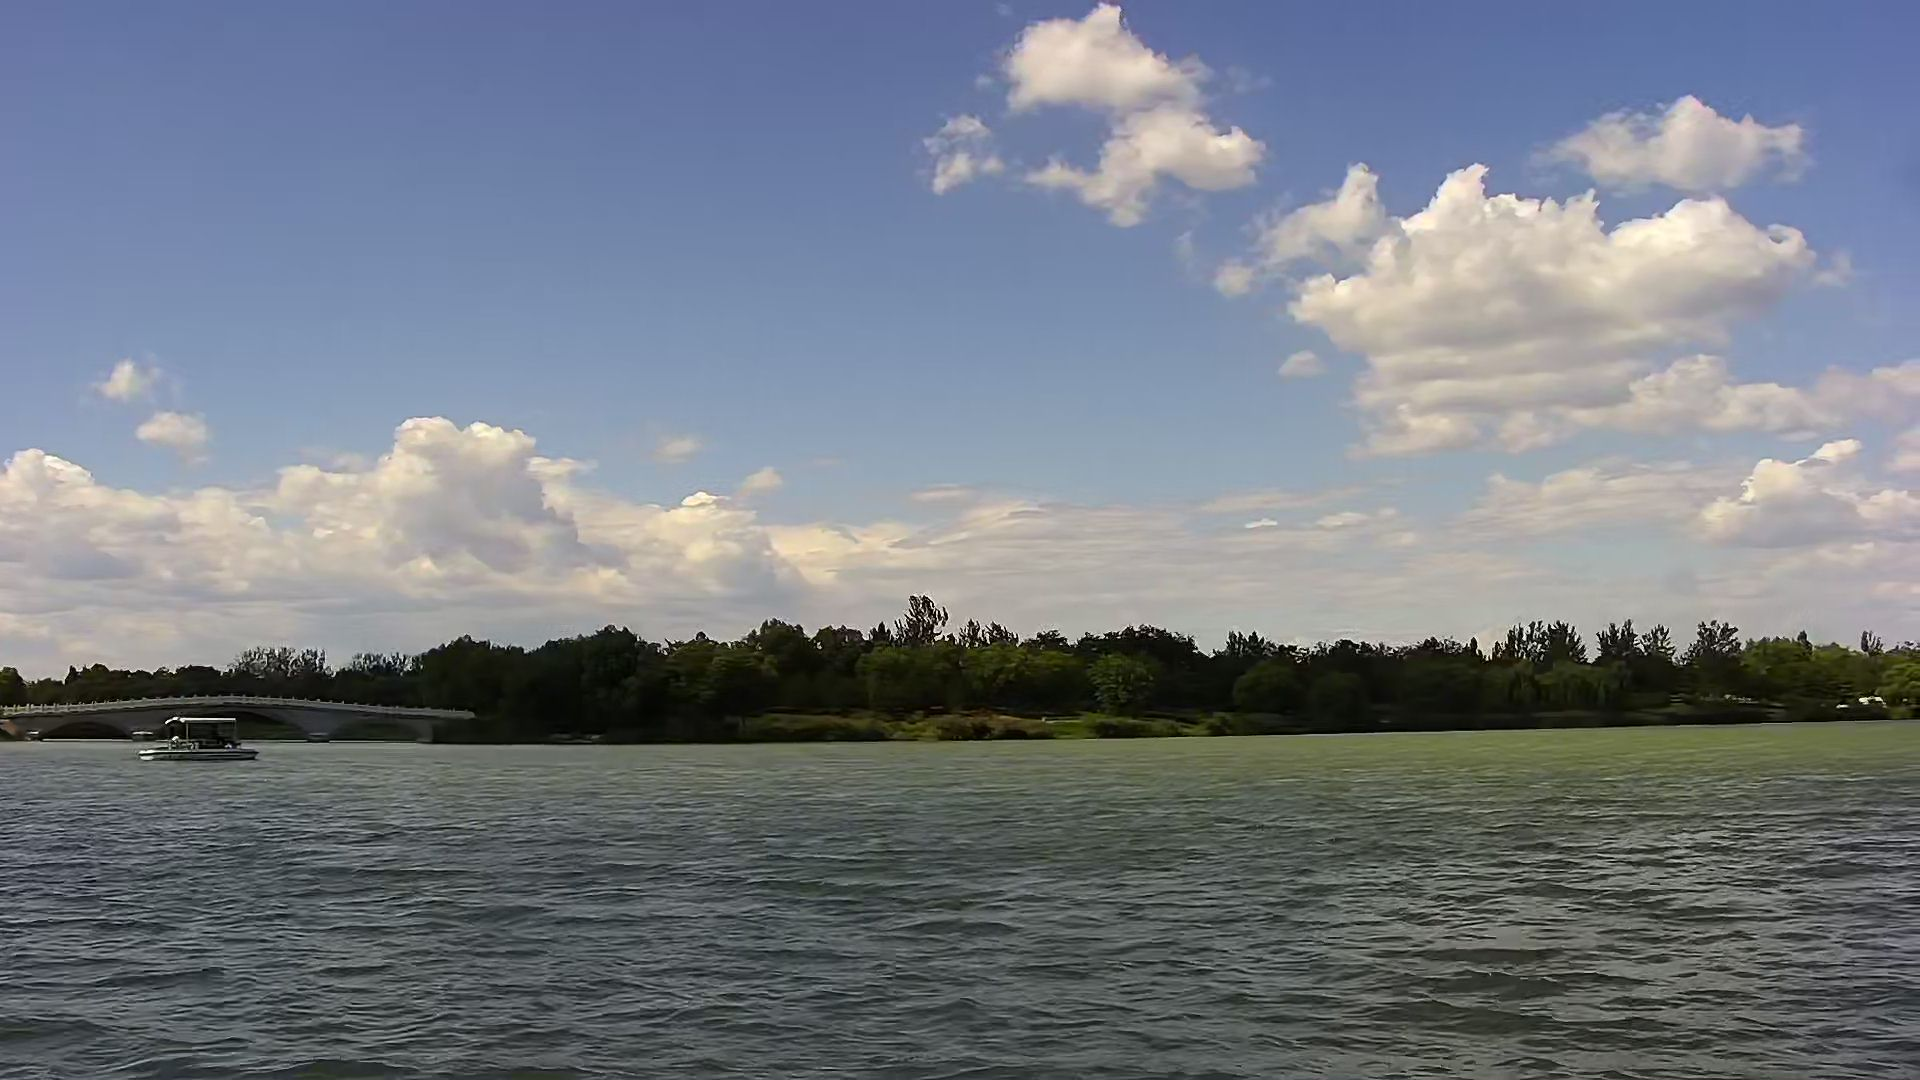boat: (142, 713, 262, 769)
bridge: (11, 695, 475, 750)
